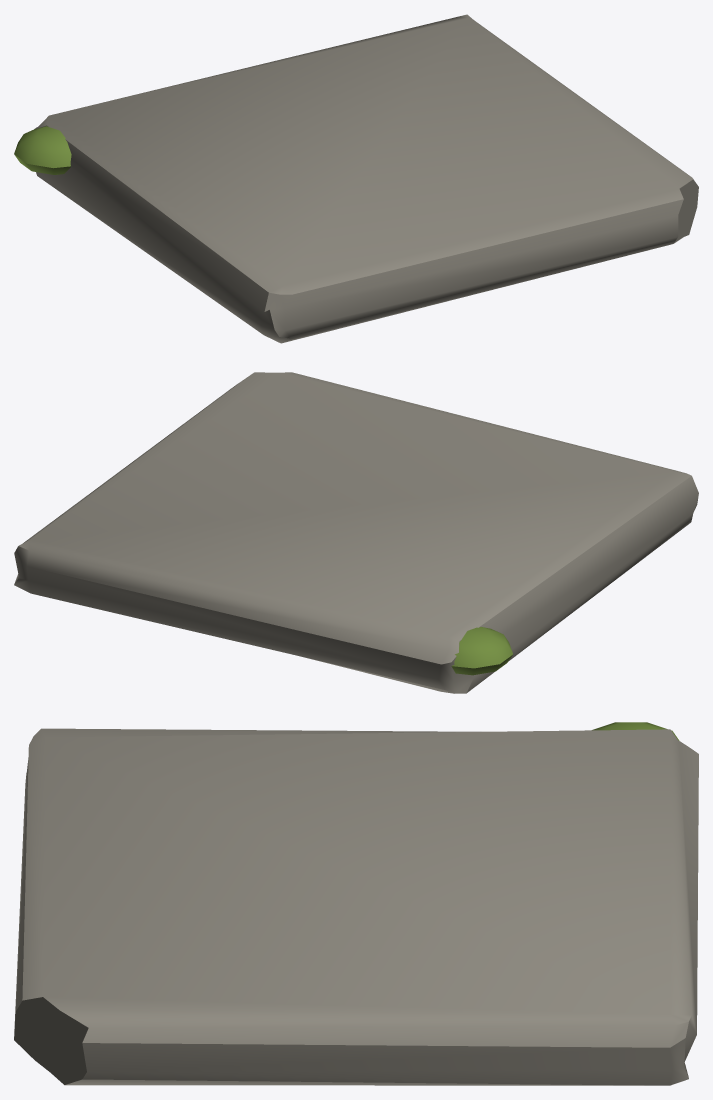
The model's file is path_slab_c.glb.
3 renders of one model, top to bottom at view 1: azimuth 30°, elevation 25°; view 2: azimuth 150°, elevation 25°; view 3: azimuth 270°, elevation 25°, orthographic. The views are drawn at different scales.
Visible parts, largest first — view 1: path_slab_c; view 2: path_slab_c; view 3: path_slab_c.
Part boxes in pixels (bbox=[...]): path_slab_c: bbox=[14, 14, 698, 343]; path_slab_c: bbox=[14, 372, 698, 693]; path_slab_c: bbox=[14, 722, 698, 1085].
Size of what is drawn, in the model's own units: 1.03 by 0.1207 by 0.938.
